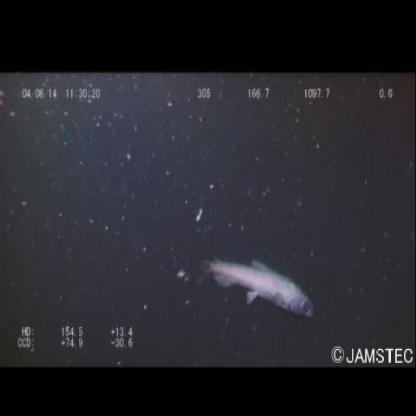Bio: (189, 252, 319, 325)
